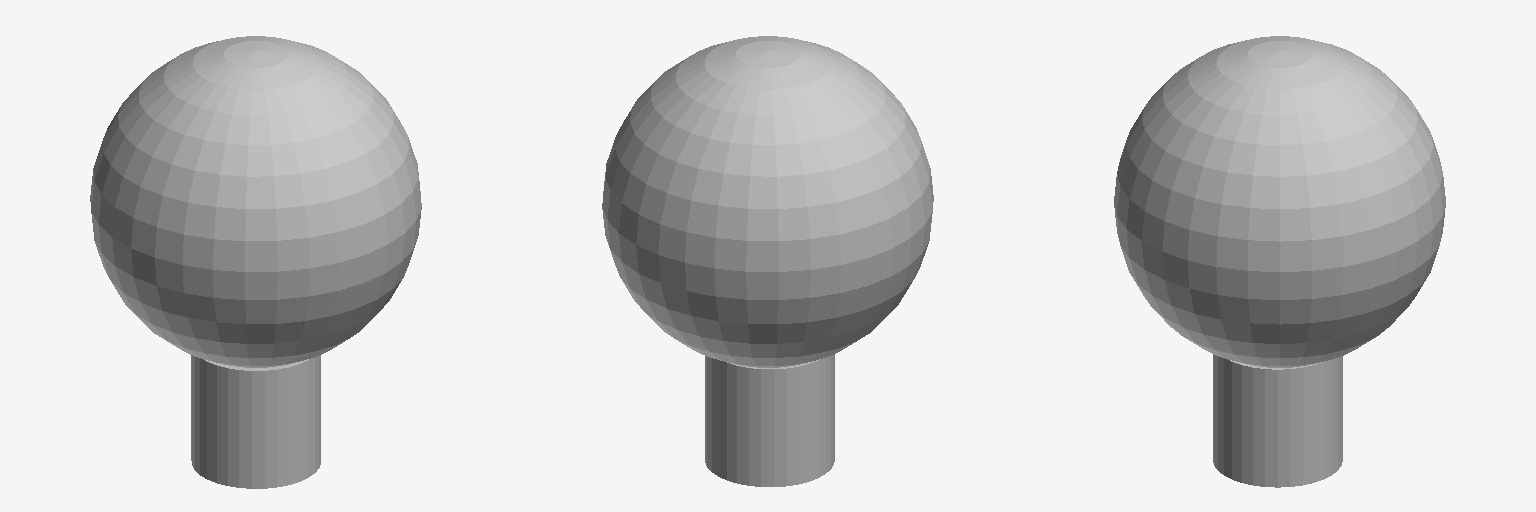
Rendered from enemy.obj.
3 renders of one model, left to right at view 1: azimuth 30°, elevation 25°; view 2: azimuth 150°, elevation 25°; view 3: azimuth 270°, elevation 25°, orthographic.
Parts seen in each view (by area): view 1: Cylinder; view 2: Cylinder; view 3: Cylinder.
Boxes of the visible parts, x1=… form: Cylinder: x1=90, y1=36, x2=421, y2=488; Cylinder: x1=602, y1=36, x2=933, y2=486; Cylinder: x1=1114, y1=36, x2=1445, y2=487.
Size of the model in its own units: 1.28 by 1.74 by 1.28.